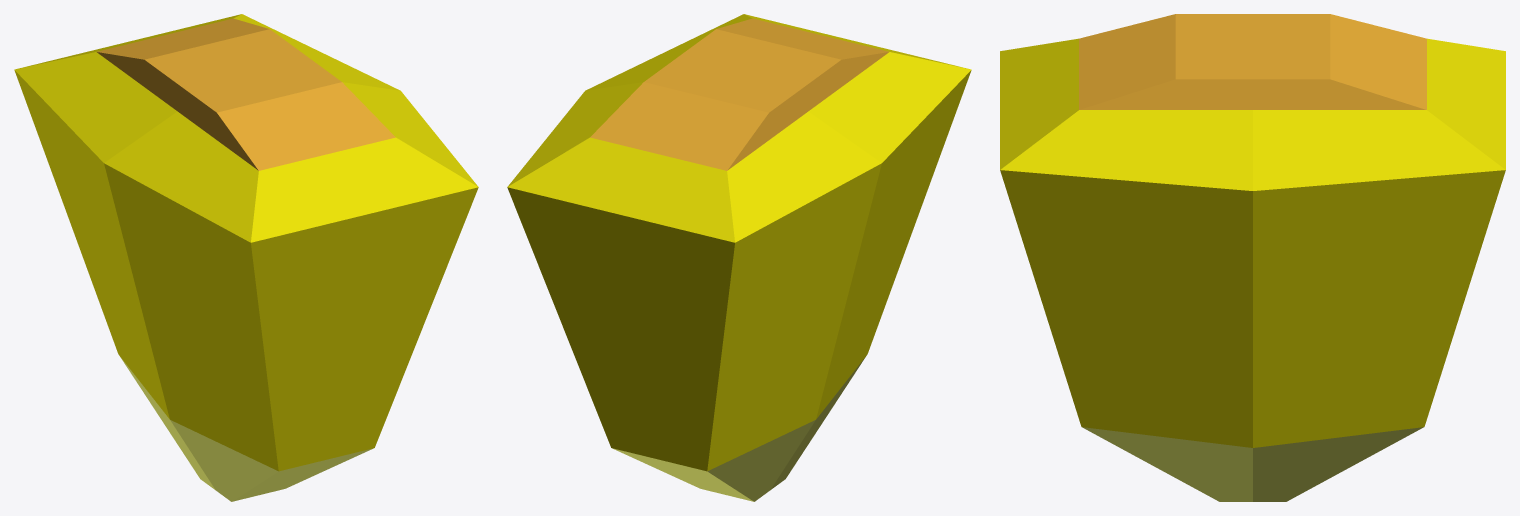
Rendered from kernel.fbx.
The picture shows the model from 3 angles, left to right: view 1: azimuth 30°, elevation 25°; view 2: azimuth 150°, elevation 25°; view 3: azimuth 270°, elevation 25°; orthographic projection. The views are drawn at different scales.
Parts seen in each view (by area): view 1: Cube; view 2: Cube; view 3: Cube.
Boxes of the visible parts, x1,y1,x2,y2 form: Cube: (14, 14, 478, 501); Cube: (507, 14, 971, 501); Cube: (1000, 14, 1505, 501).
Size of the model in its own units: 111 by 147 by 153.
